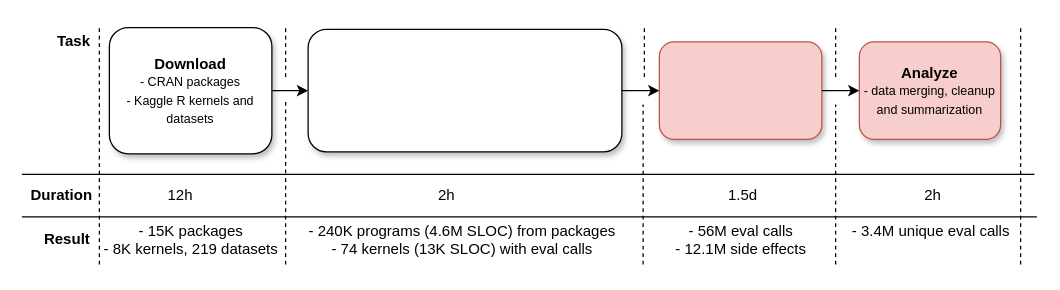
This 1060x290 diagram has some shape labels left out. The shapes that lost their labels are listed below. From the top down, each one's centre as x and y in pixels, then its label:
the point at 465,92: Extract - runnable code from R packages - runnable code from Kaggle kernels
the point at 741,92: Trace - record calls to eval functions - record side effects
